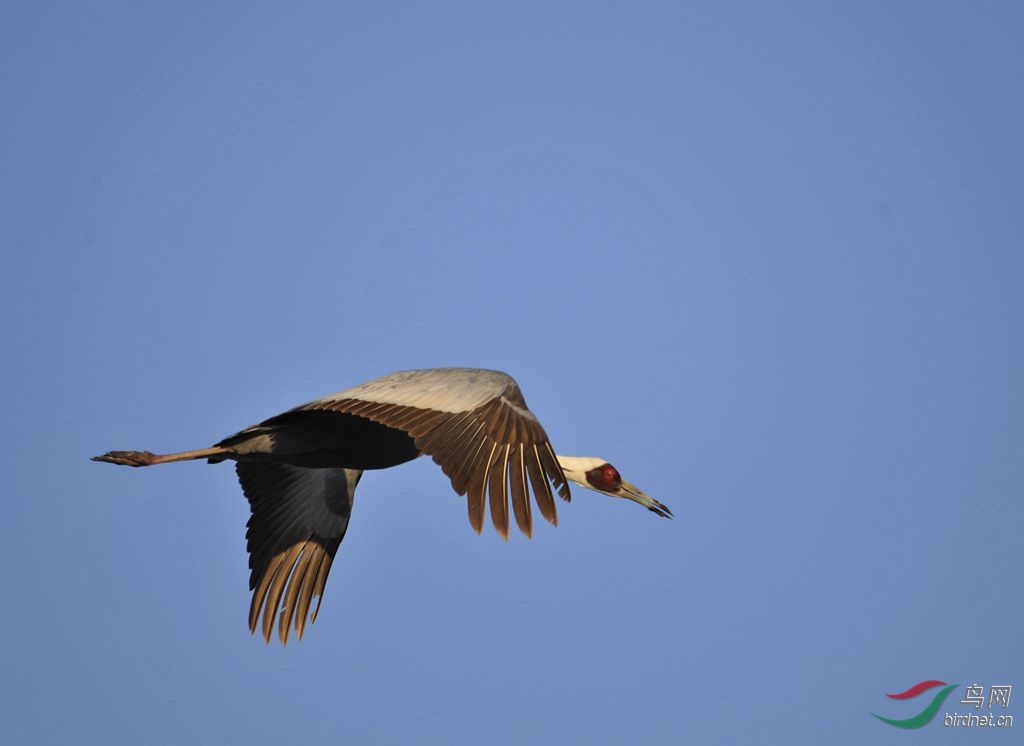bird: (69, 362, 676, 643)
